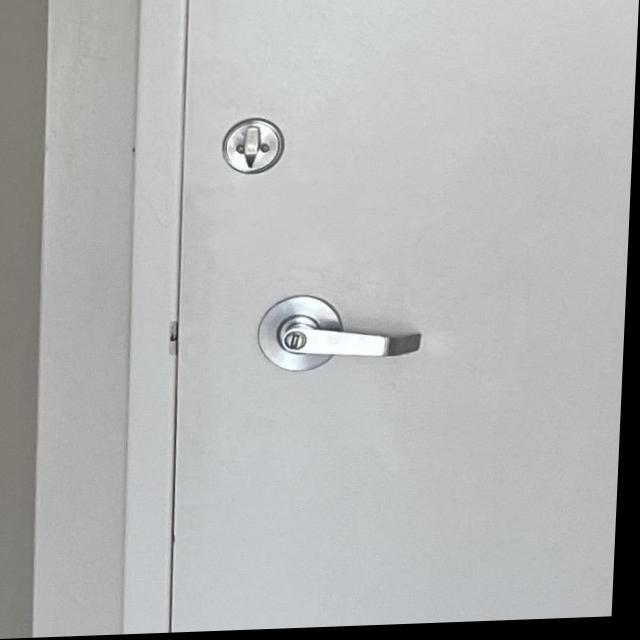door_handle: (260, 306, 443, 386)
